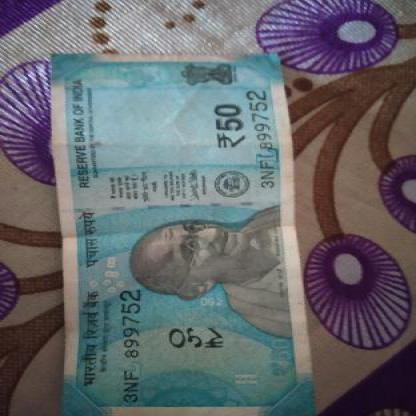New50Front: (46, 55, 317, 410)
